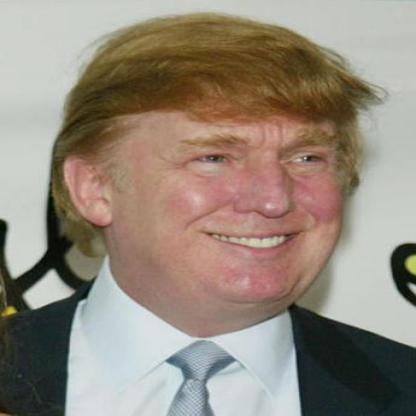face: (105, 29, 371, 308)
